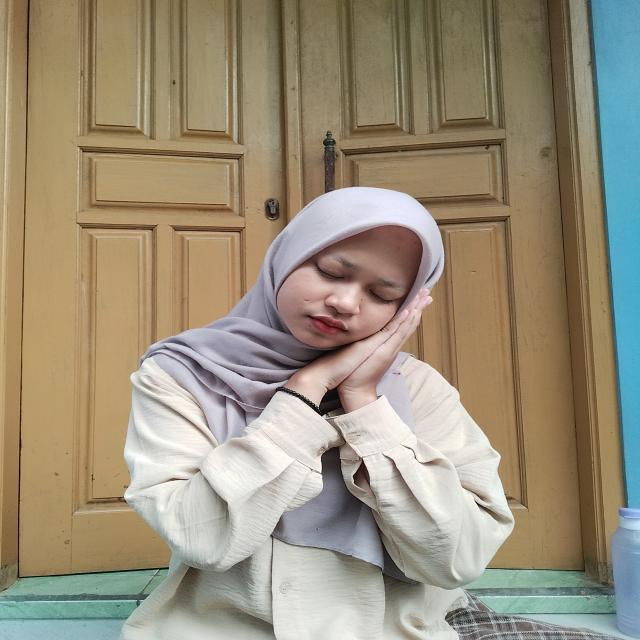tidur: (234, 285, 443, 458)
